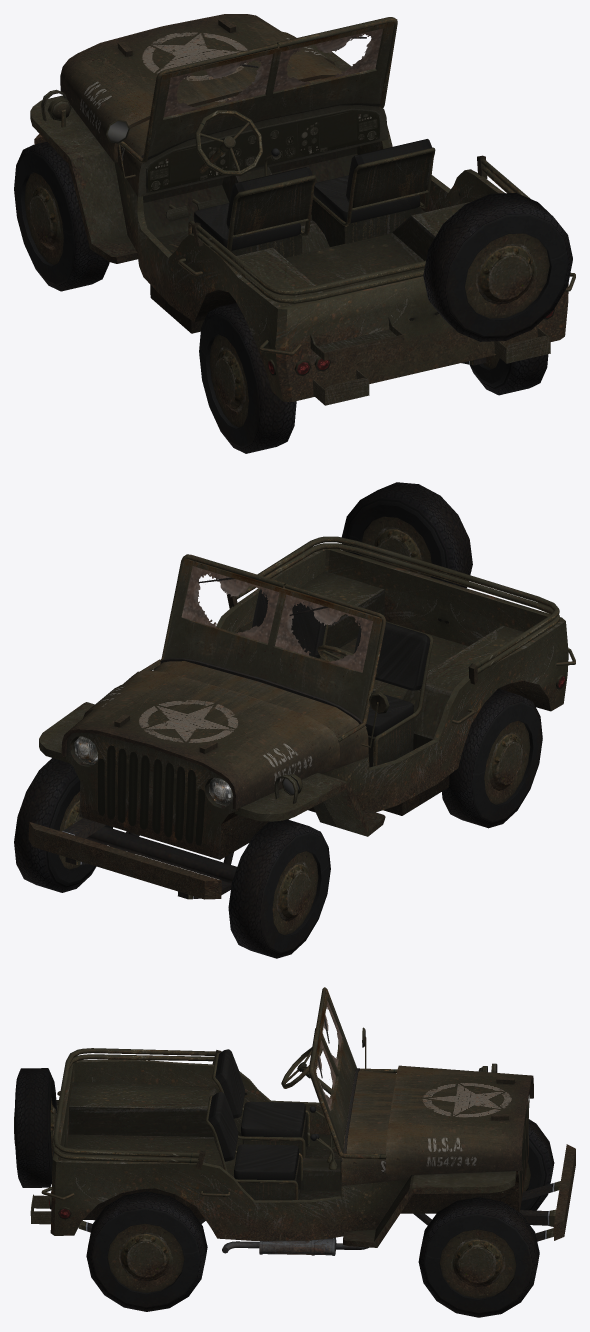
Rendered from jeep_americano.fbx.
3 renders of one model, top to bottom at view 1: azimuth 30°, elevation 25°; view 2: azimuth 150°, elevation 25°; view 3: azimuth 270°, elevation 25°, orthographic. The views are drawn at different scales.
Visible parts, largest first — view 1: jeep001; view 2: jeep001; view 3: jeep001.
Part boxes in pixels (x1,y1,x2,y2): jeep001: [14, 14, 575, 453]; jeep001: [14, 482, 575, 958]; jeep001: [14, 987, 575, 1317].
Size of the model in its own units: 230 by 201 by 425.
